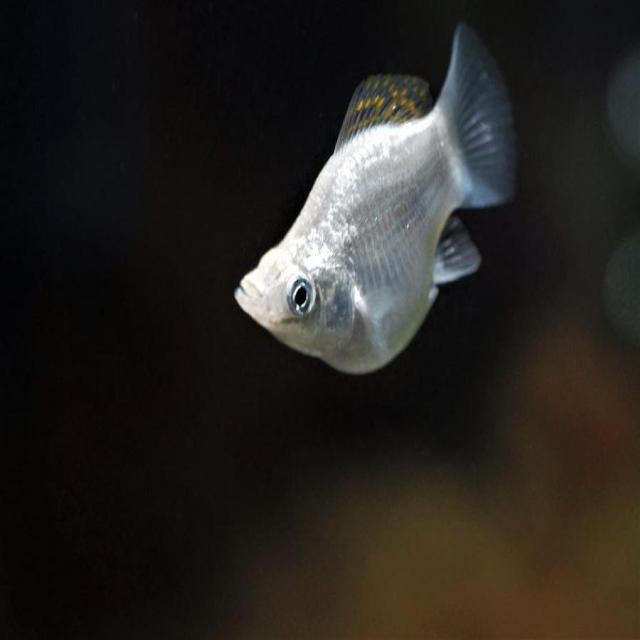PlatyFish: (230, 13, 528, 402)
